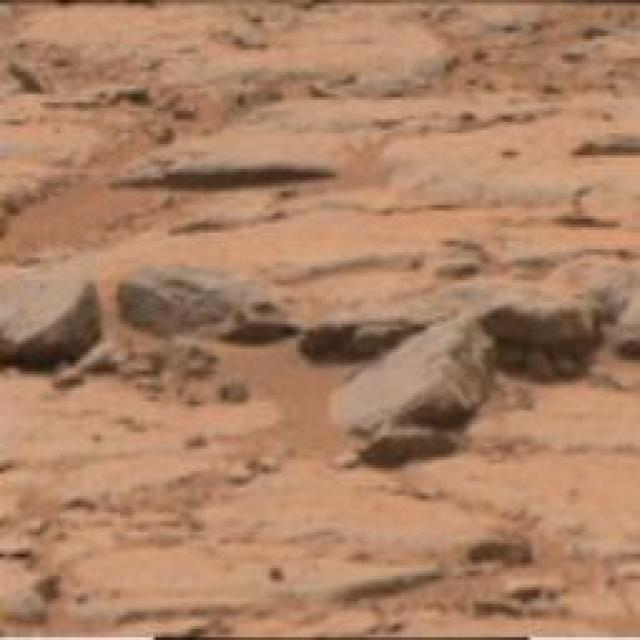rock: (331, 316, 498, 466), (466, 278, 640, 376), (117, 266, 297, 353), (0, 272, 104, 376)
